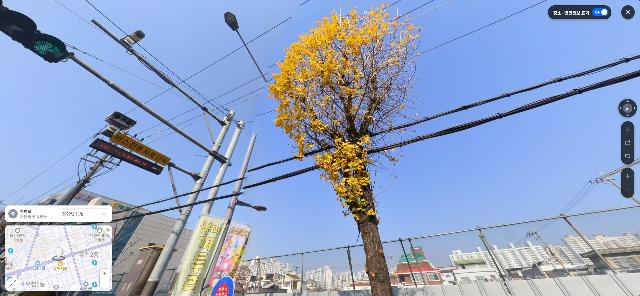ginkgo: (267, 0, 434, 296)
